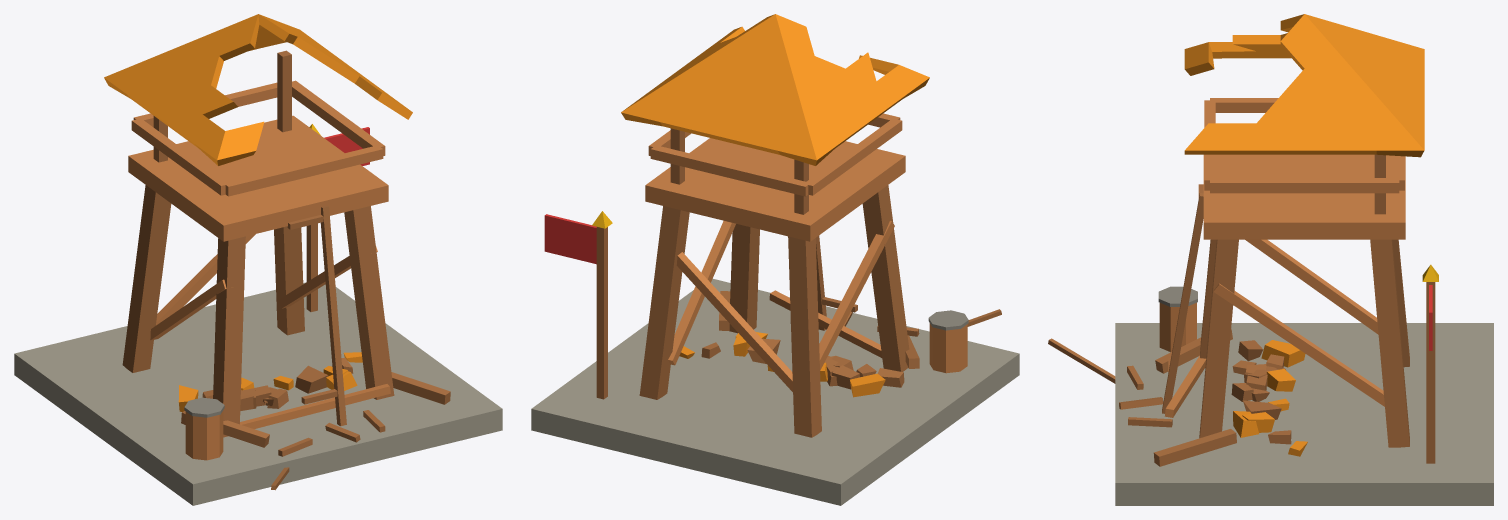
The model's file is defense_tower_t1_v1_dmg1.glb.
The picture shows the model from 3 angles, left to right: view 1: azimuth 30°, elevation 25°; view 2: azimuth 150°, elevation 25°; view 3: azimuth 270°, elevation 25°; orthographic projection. The views are drawn at different scales.
Visible parts, largest first — view 1: defense_tower_t1_v1_dmg1; view 2: defense_tower_t1_v1_dmg1; view 3: defense_tower_t1_v1_dmg1.
Part boxes in pixels (bbox=[...]): defense_tower_t1_v1_dmg1: bbox=[14, 14, 502, 505]; defense_tower_t1_v1_dmg1: bbox=[531, 14, 1019, 505]; defense_tower_t1_v1_dmg1: bbox=[1048, 14, 1493, 505].
Size of the model in its own units: 0.63 by 0.72 by 0.7064.
Materials: 1 (1 with a texture image).
